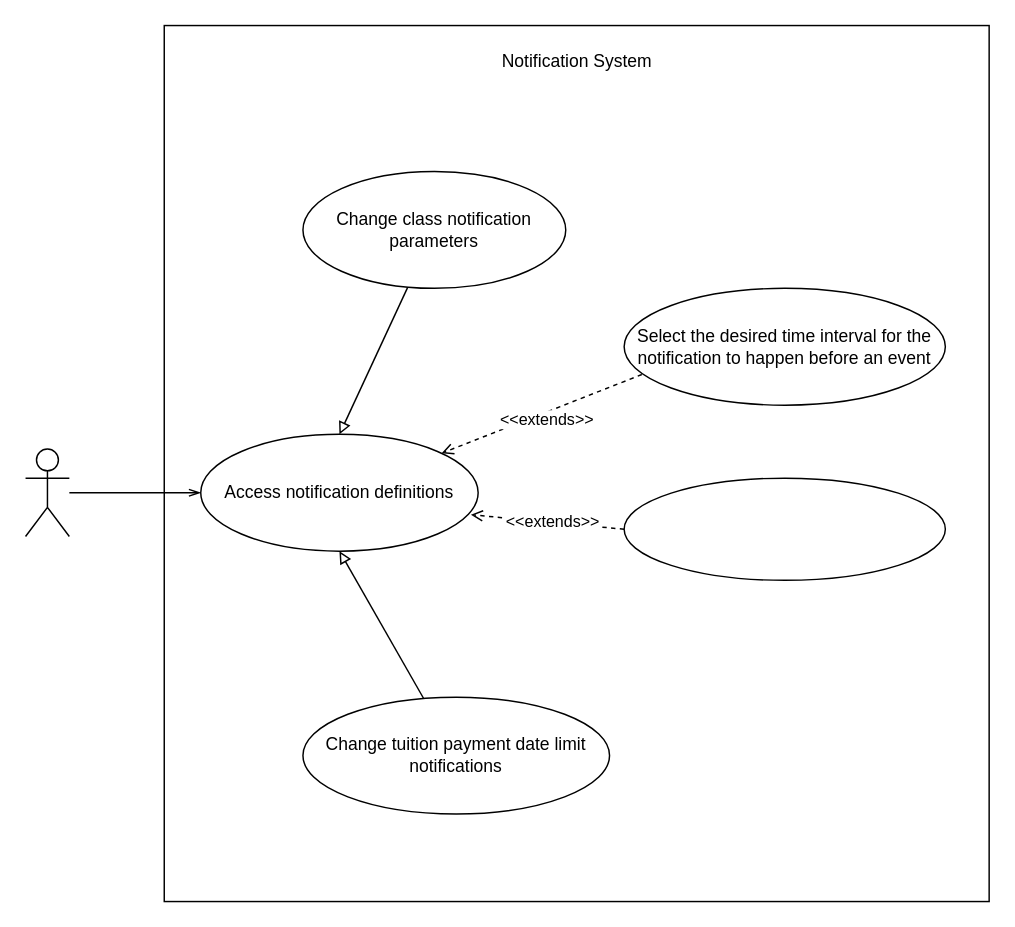
The diagram is 1015 pixels wide and 927 high, and some of its shapes have lost their labels. The shapes that lost their labels are listed below. From the top down, each one's box as (x1, y1, x2, y2) in pixels, then its label:
(24, 447, 69, 537): User
(623, 477, 945, 580): Change the notification status (active/inactive)
